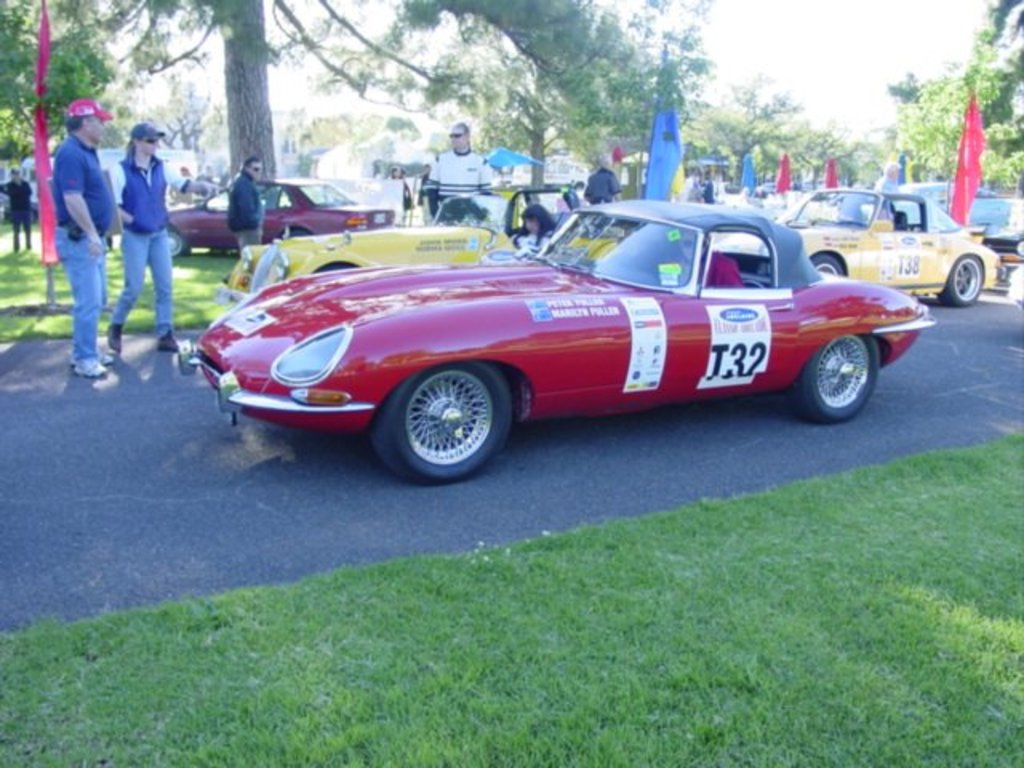Car: (156, 166, 1022, 305)
